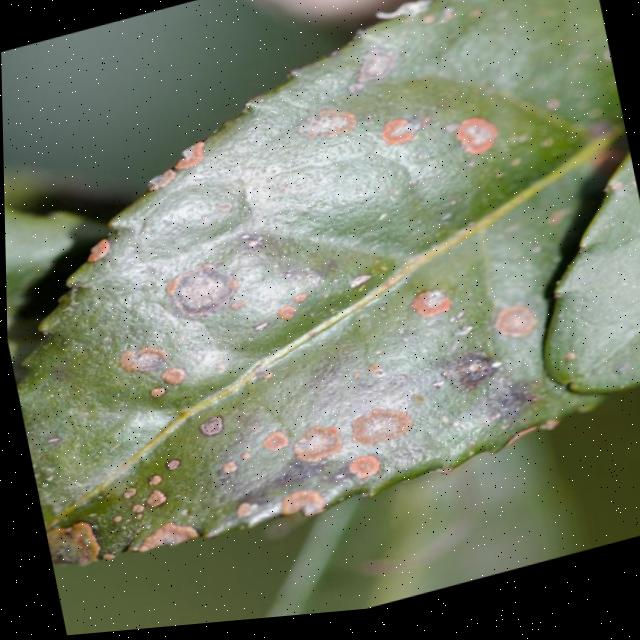Tea algae leaf spot: (1, 5, 589, 581)
